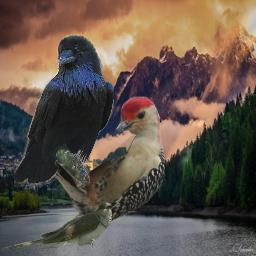Crow: (14, 34, 114, 187)
Cuckoo: (1, 201, 112, 252)
Woodpecker: (48, 96, 165, 251)
